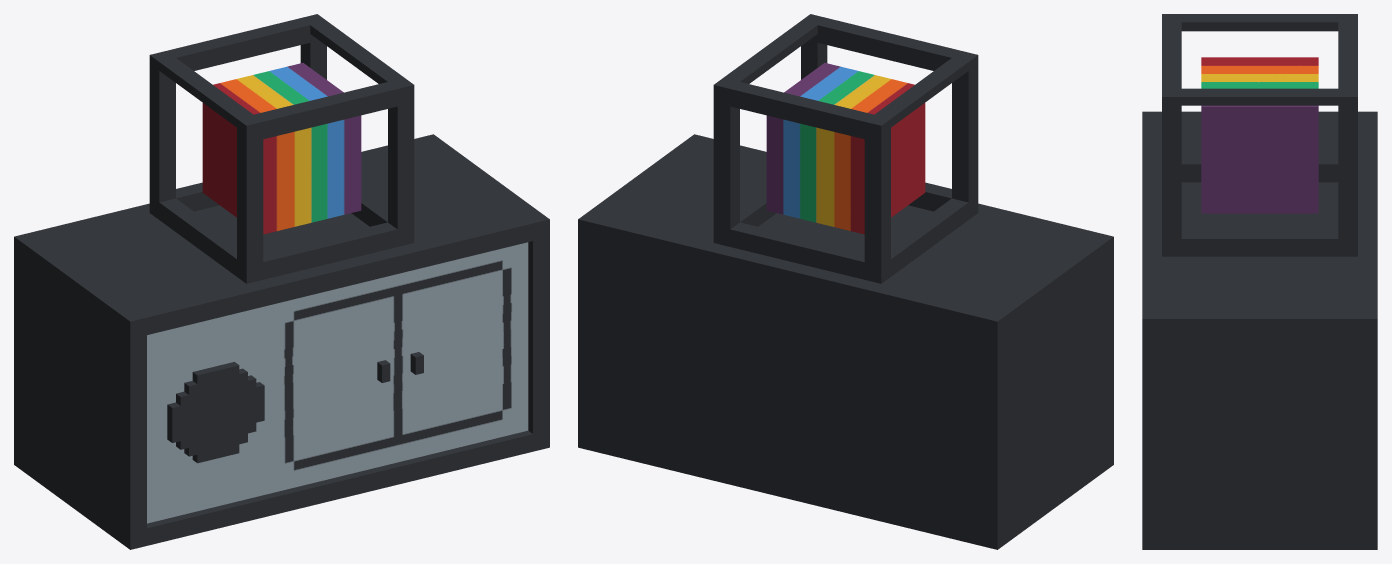
File: Generator.fbx
The picture shows the model from 3 angles, left to right: view 1: azimuth 30°, elevation 25°; view 2: azimuth 150°, elevation 25°; view 3: azimuth 270°, elevation 25°; orthographic projection.
Visible parts, largest first — view 1: Object; view 2: Object; view 3: Object.
Part boxes in pixels (bbox=[...]): Object: bbox=[14, 14, 549, 549]; Object: bbox=[578, 14, 1113, 549]; Object: bbox=[1142, 14, 1377, 549].
Bounding box in the file's own units: 50 × 44 × 24.
